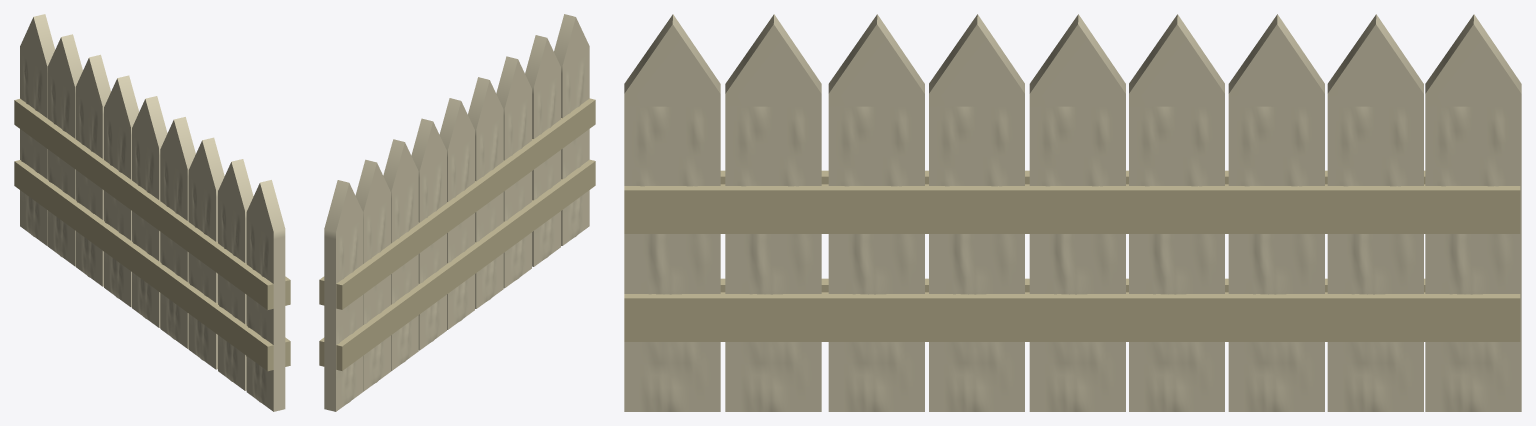
Rendered from fence.fbx.
3 renders of one model, left to right at view 1: azimuth 30°, elevation 25°; view 2: azimuth 150°, elevation 25°; view 3: azimuth 270°, elevation 25°, orthographic. The views are drawn at different scales.
Visible parts, largest first — view 1: long_wood_3, long_wood_4, wood_1, wood_3, wood_2, wood_5, wood_4, wood_8, wood_7, wood_6, wood_9; view 2: long_wood_3, long_wood_4, wood_9, wood_2, wood_1, wood_4, wood_3, wood_6, wood_7, wood_5, wood_8; view 3: long_wood_1, long_wood_2, wood_9, wood_1, wood_2, wood_5, wood_7, wood_8, wood_3, wood_4, wood_6.
Part boxes in pixels (<box>): long_wood_3: <box>14,98,273,309</box>; long_wood_4: <box>14,160,273,371</box>; wood_1: <box>246,180,285,411</box>; wood_3: <box>188,137,224,369</box>; wood_2: <box>218,159,253,390</box>; wood_5: <box>132,96,167,327</box>; wood_4: <box>160,117,195,348</box>; wood_8: <box>47,34,82,266</box>; wood_7: <box>75,54,110,286</box>; wood_6: <box>103,75,138,307</box>; wood_9: <box>20,14,54,245</box>; long_wood_3: <box>336,98,595,309</box>; long_wood_4: <box>336,159,595,370</box>; wood_9: <box>324,180,363,411</box>; wood_2: <box>525,35,560,266</box>; wood_1: <box>554,14,589,245</box>; wood_4: <box>468,77,503,308</box>; wood_3: <box>496,56,531,288</box>; wood_6: <box>411,118,446,350</box>; wood_7: <box>383,139,418,371</box>; wood_5: <box>439,98,474,329</box>; wood_8: <box>355,159,390,391</box>; long_wood_1: <box>624,184,1520,233</box>; long_wood_2: <box>624,292,1520,341</box>; wood_9: <box>1425,14,1521,411</box>; wood_1: <box>624,14,720,411</box>; wood_2: <box>725,14,821,411</box>; wood_5: <box>1029,14,1125,411</box>; wood_7: <box>1228,14,1324,411</box>; wood_8: <box>1327,14,1423,411</box>; wood_3: <box>828,14,924,411</box>; wood_4: <box>929,14,1024,411</box>; wood_6: <box>1129,14,1224,411</box>.
Bounding box in the file's own units: 967 × 8903 × 18650.
